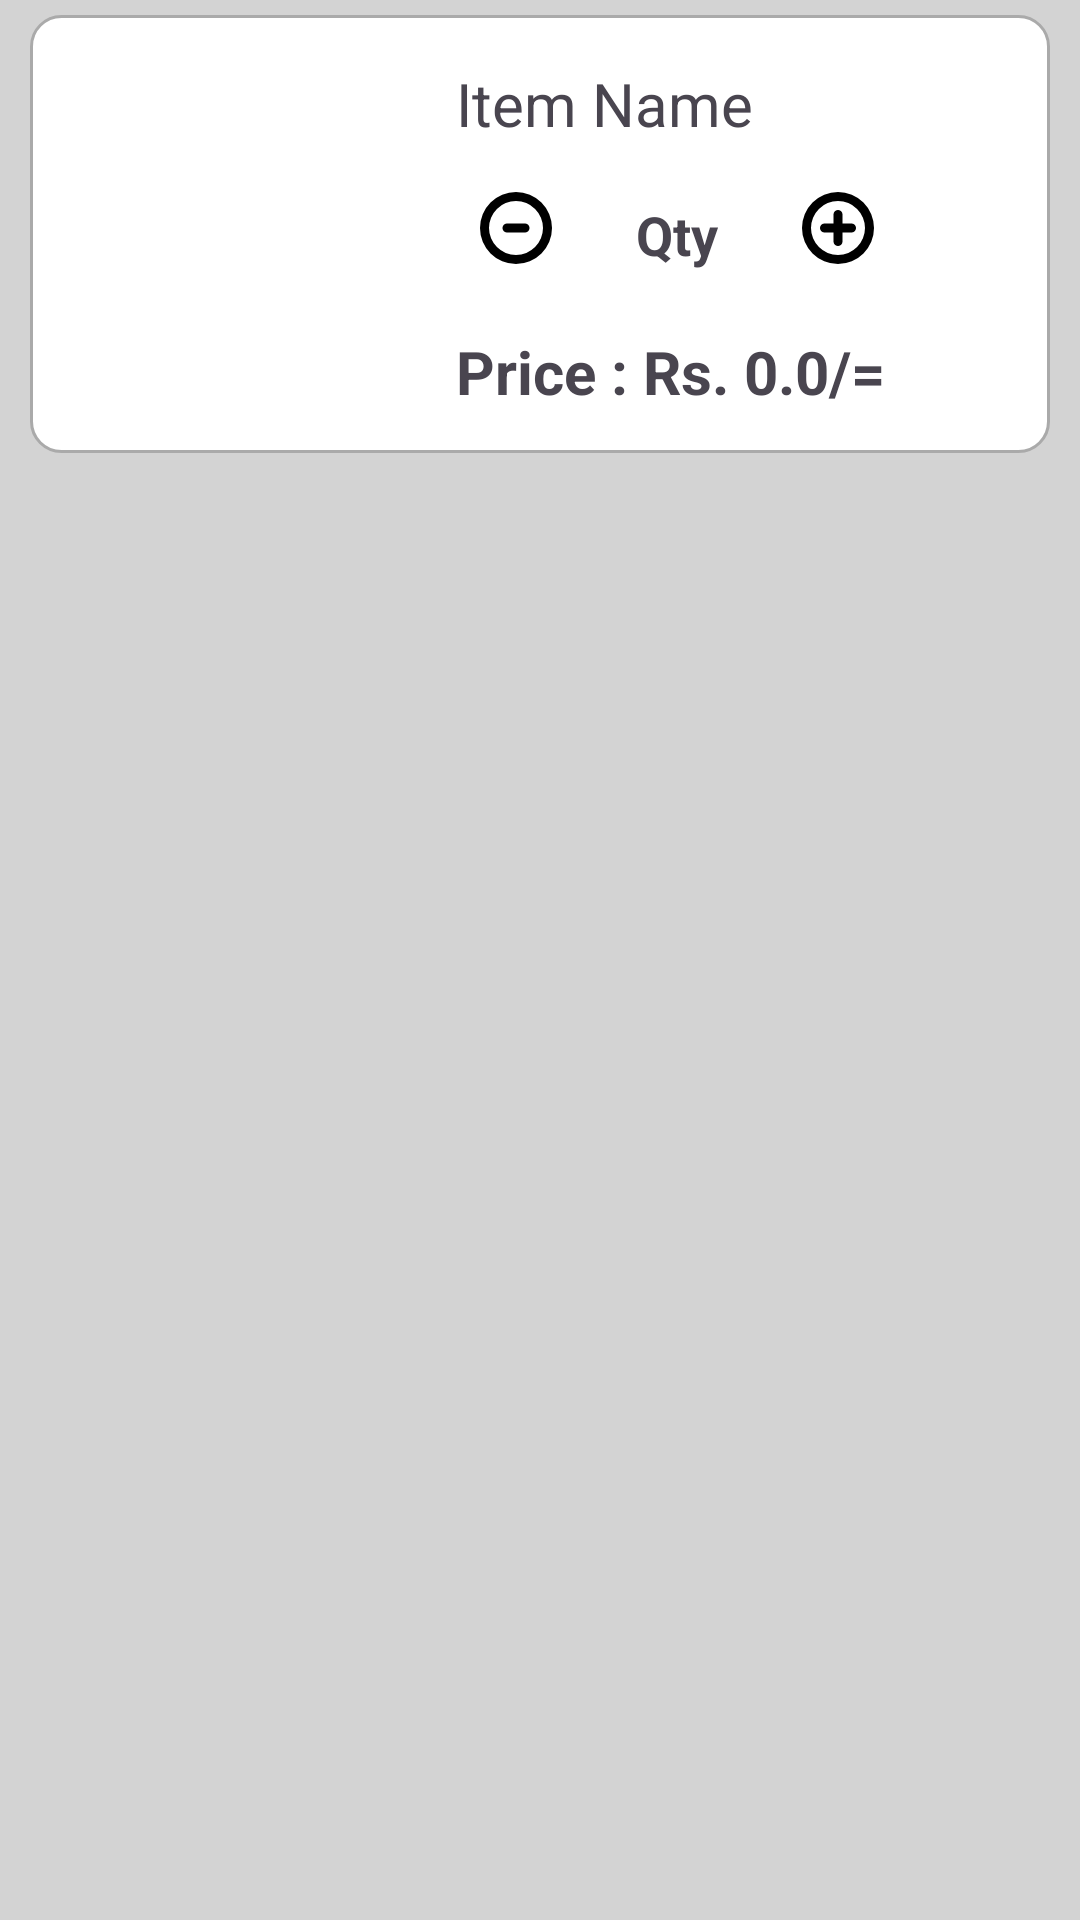

Point at icon controls on the screen. Image size 1080 × 1920, points as point (x, y).
negative: point (516, 228)
positive: point (838, 228)
